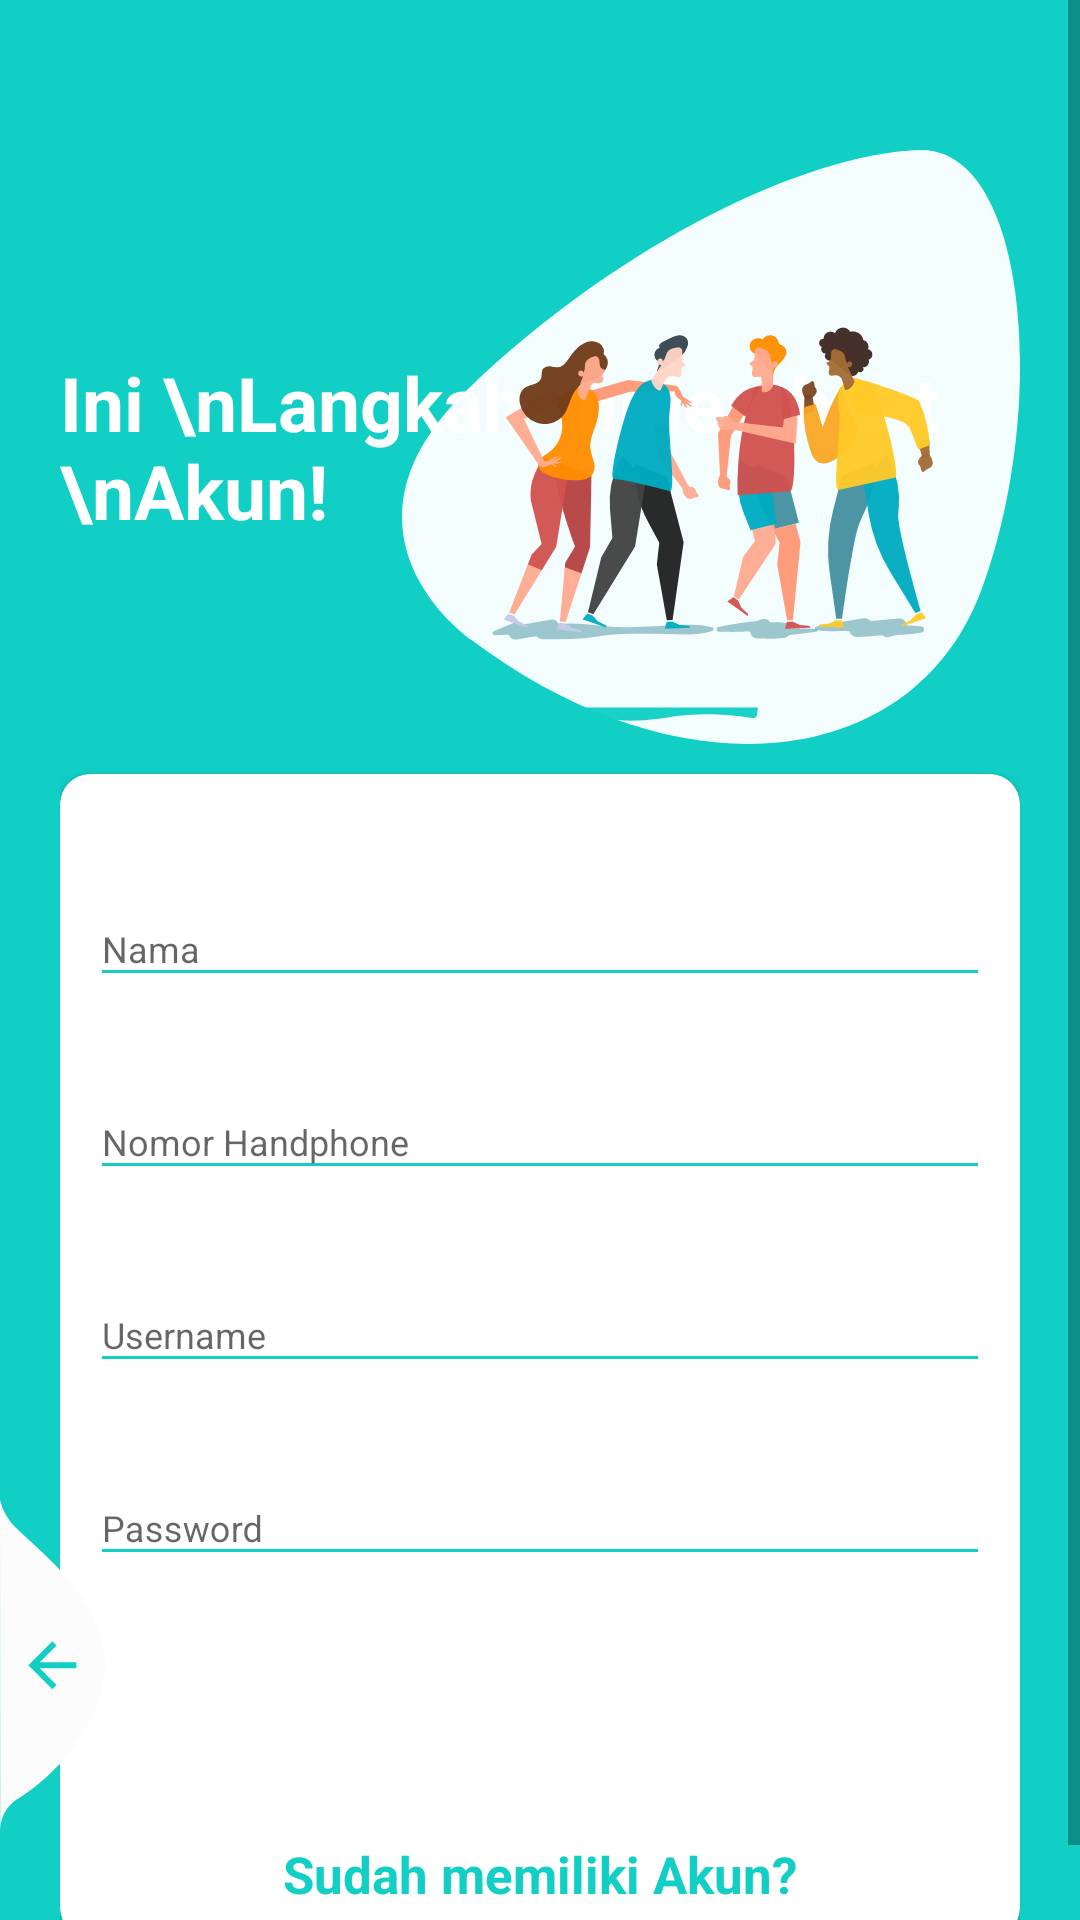

Named icons in this screenshot (1080w x 1920h) and their centers, [x,y]:
back: [52,1665]
